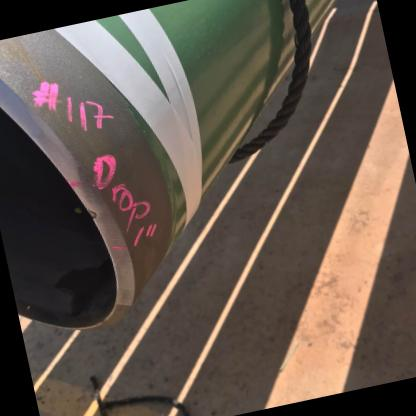Bevel: (77, 198, 106, 230)
